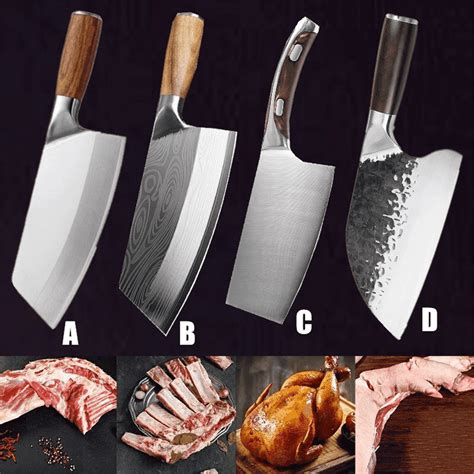knife: (115, 13, 241, 334), (9, 9, 129, 331), (348, 13, 464, 343), (225, 18, 337, 327)
